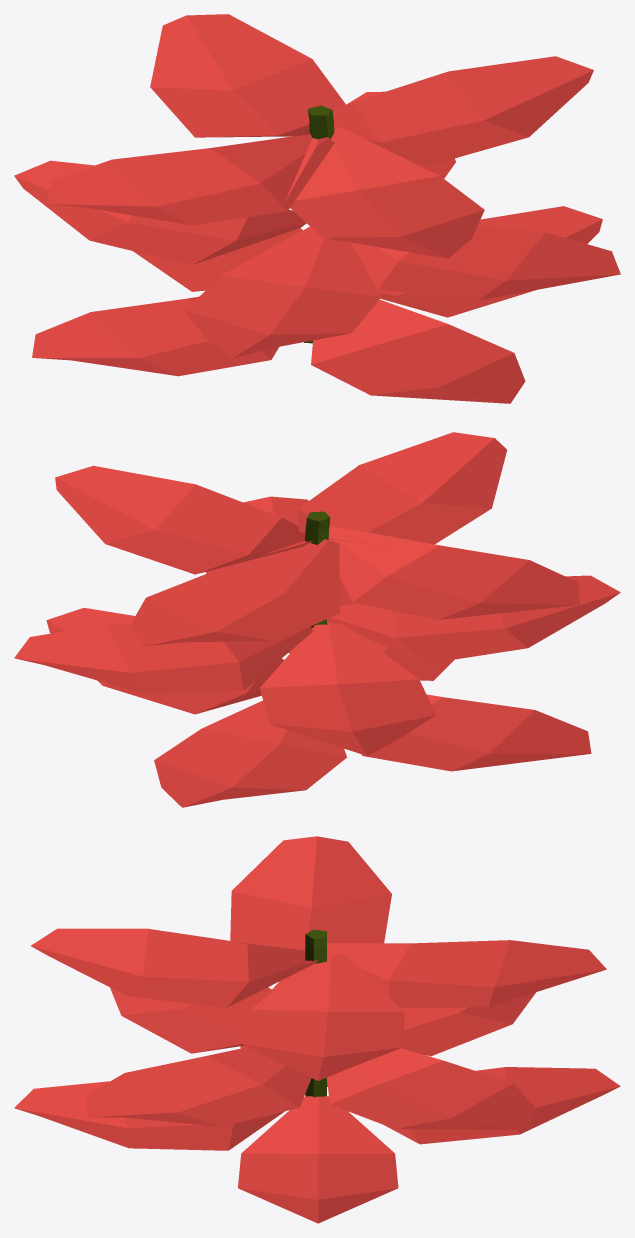
Rendered from Planta2.fbx.
The picture shows the model from 3 angles, top to bottom: view 1: azimuth 30°, elevation 25°; view 2: azimuth 150°, elevation 25°; view 3: azimuth 270°, elevation 25°; orthographic projection. The views are drawn at different scales.
Parts seen in each view (by area): view 1: Planta2; view 2: Planta2; view 3: Planta2.
Boxes of the visible parts, left/top/right/bottom form: Planta2: left=14, top=14, right=620, bottom=403; Planta2: left=14, top=432, right=620, bottom=807; Planta2: left=14, top=836, right=620, bottom=1223.
Bounding box in the file's own units: 127 × 48.14 × 128.
